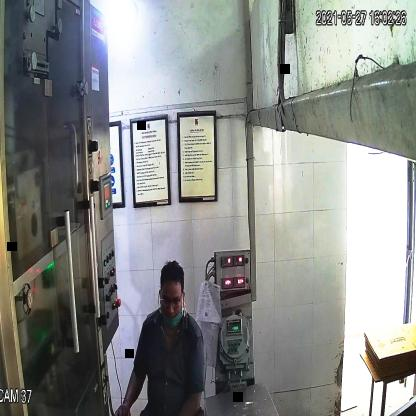goggles: (156, 288, 192, 316)
